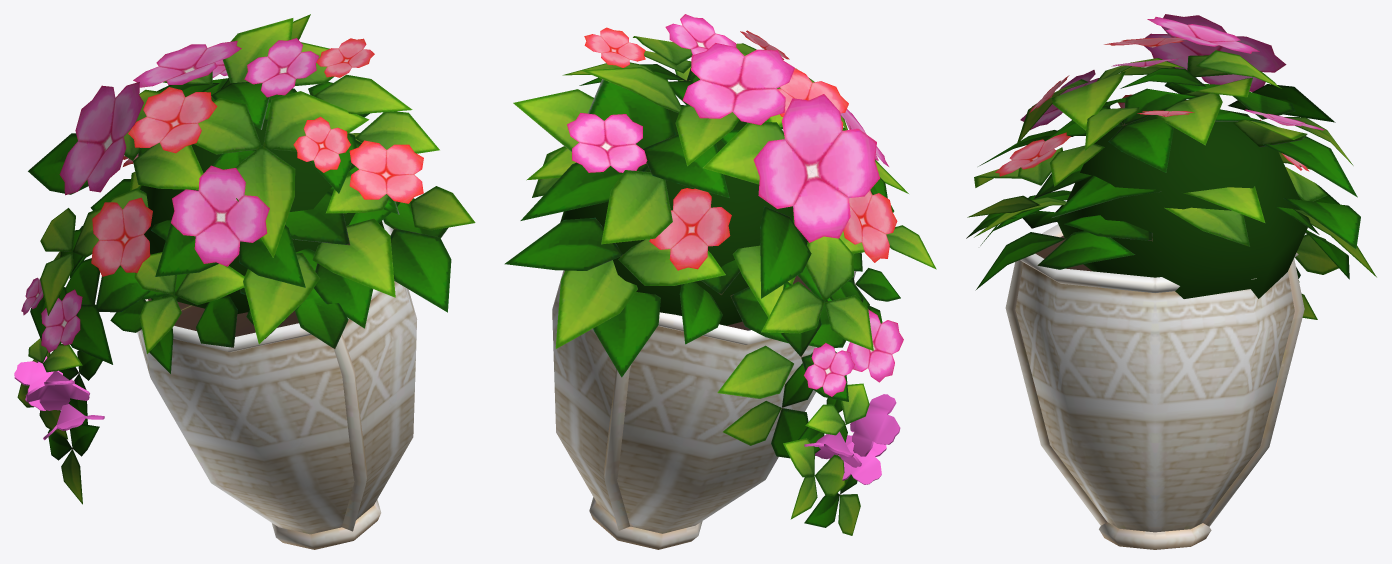
The model's file is my_sunshineresort_01_wallacc_01.glb.
3 renders of one model, left to right at view 1: azimuth 30°, elevation 25°; view 2: azimuth 150°, elevation 25°; view 3: azimuth 270°, elevation 25°, orthographic. The views are drawn at different scales.
Visible parts, largest first — view 1: my_sunshineresort_01_wallacc_01; view 2: my_sunshineresort_01_wallacc_01; view 3: my_sunshineresort_01_wallacc_01.
Part boxes in pixels (x1=…): my_sunshineresort_01_wallacc_01: x1=14, y1=14, x2=475, y2=549; my_sunshineresort_01_wallacc_01: x1=504, y1=14, x2=936, y2=549; my_sunshineresort_01_wallacc_01: x1=966, y1=14, x2=1376, y2=549.
Size of the model in its own units: 0.00341 by 0.00463 by 0.00362.
1 material, 1 textured.
